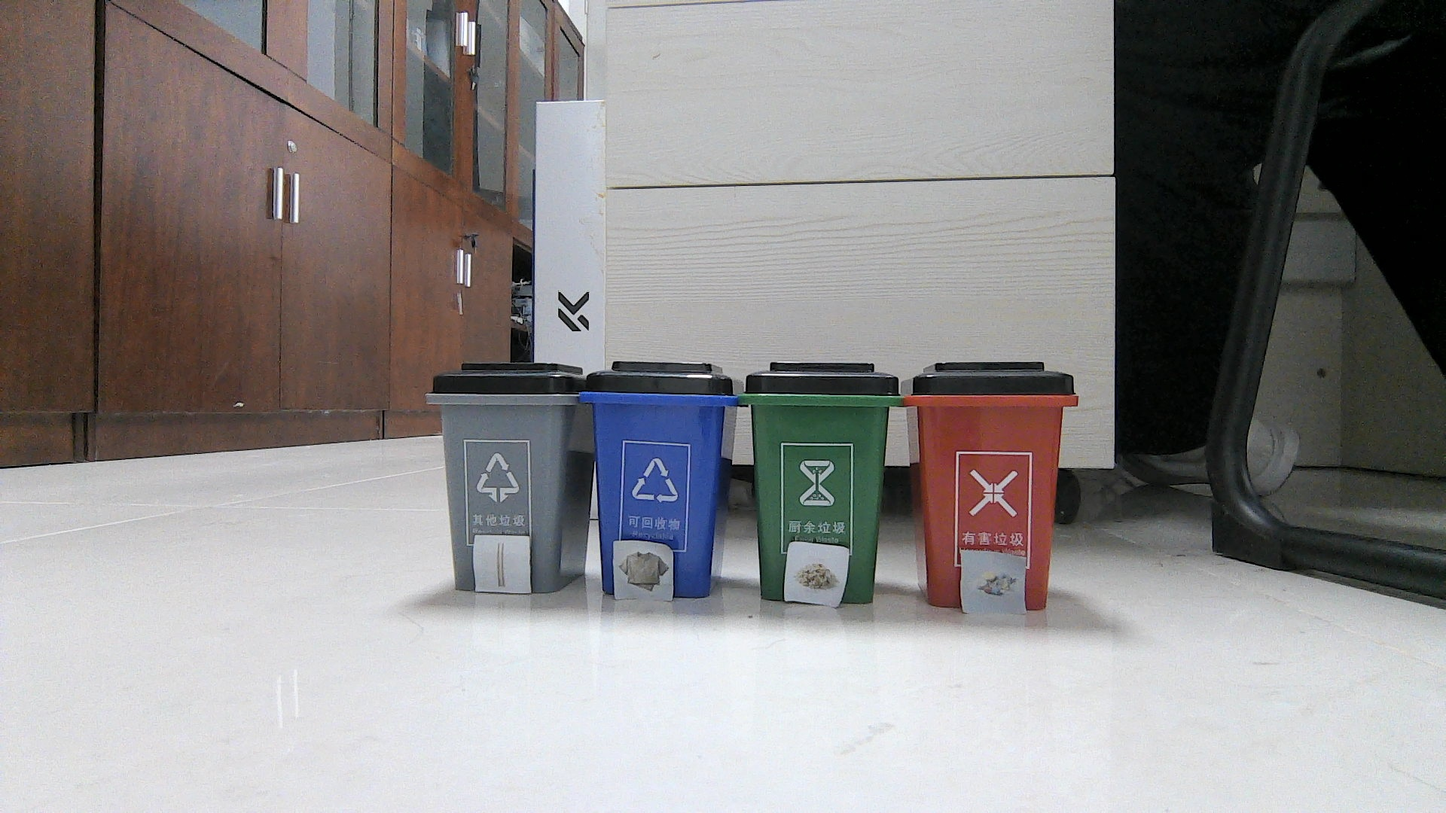food_trash: (788, 547, 844, 602)
hazardous_trash: (964, 555, 1022, 612)
other_trash: (477, 540, 525, 589)
recyclable_trash: (616, 542, 670, 597)
